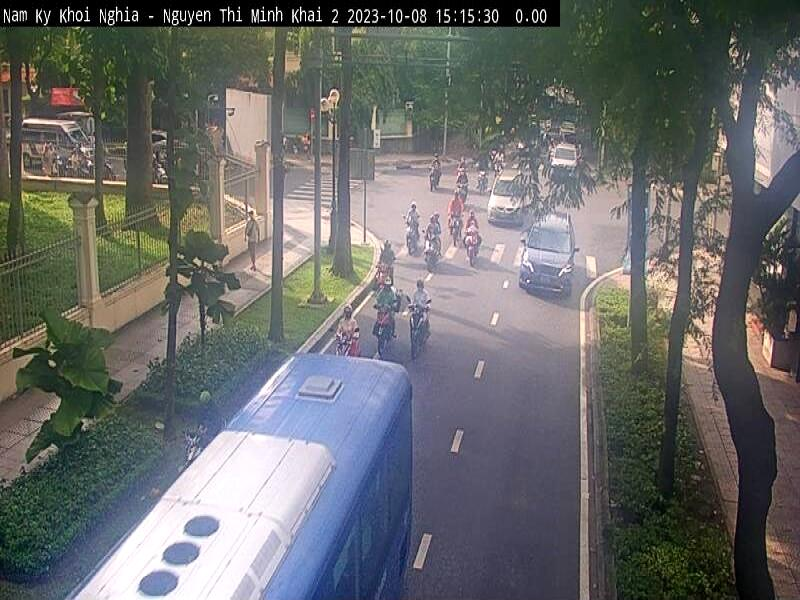bus: (72, 351, 411, 600)
car: (521, 211, 573, 299), (18, 119, 96, 172), (488, 167, 526, 223)
motorcycle: (374, 298, 394, 357), (407, 302, 426, 357), (328, 327, 360, 356)
